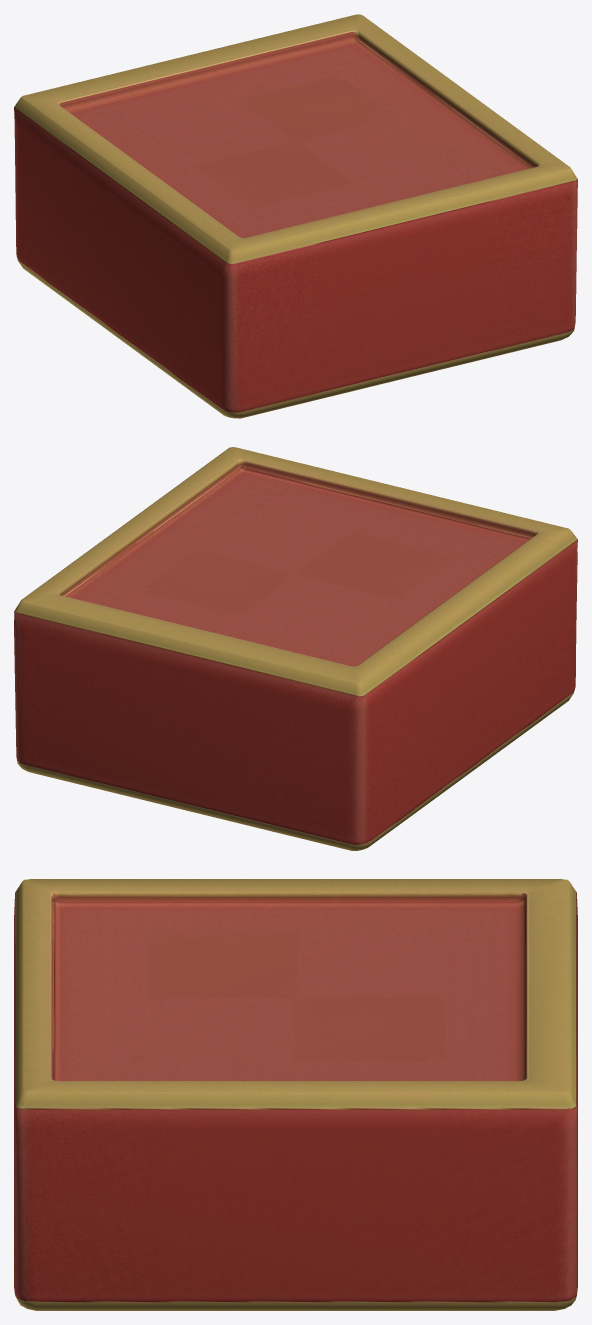
Rendered from tripo_convert_68fa7b33-4acd-4a12-835f-98a2cabf31ec.fbx.
The picture shows the model from 3 angles, top to bottom: view 1: azimuth 30°, elevation 25°; view 2: azimuth 150°, elevation 25°; view 3: azimuth 270°, elevation 25°; orthographic projection. The views are drawn at different scales.
Visible parts, largest first — view 1: tripo_node_68fa7b33; view 2: tripo_node_68fa7b33; view 3: tripo_node_68fa7b33.
Boxes of the visible parts, box(x1,y1,x2,y2) form: tripo_node_68fa7b33: box(14, 14, 577, 418); tripo_node_68fa7b33: box(14, 447, 577, 850); tripo_node_68fa7b33: box(14, 879, 577, 1310).
Size of the model in its own units: 0.9277 by 0.4551 by 0.998.
Materials: 1 (1 with a texture image).
